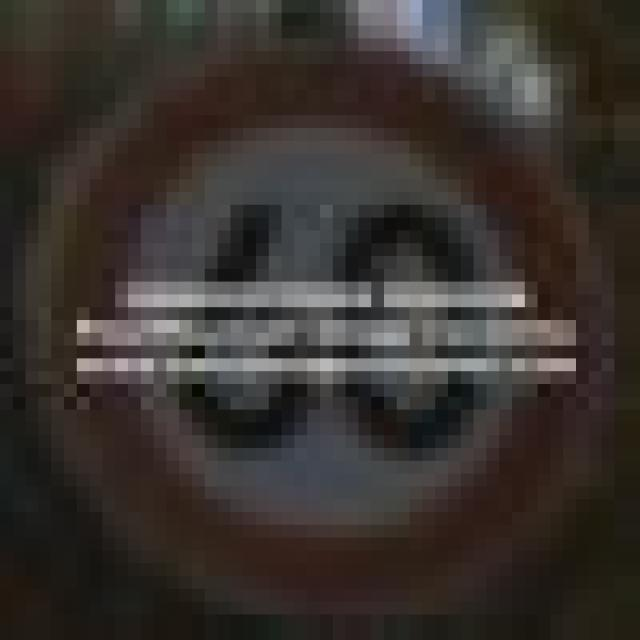speed_limit_40: (38, 38, 576, 576)
